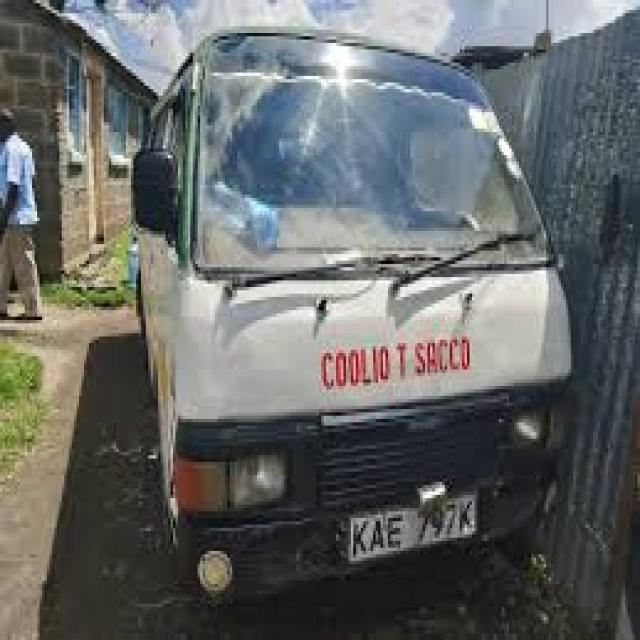matatu: (97, 22, 630, 640)
